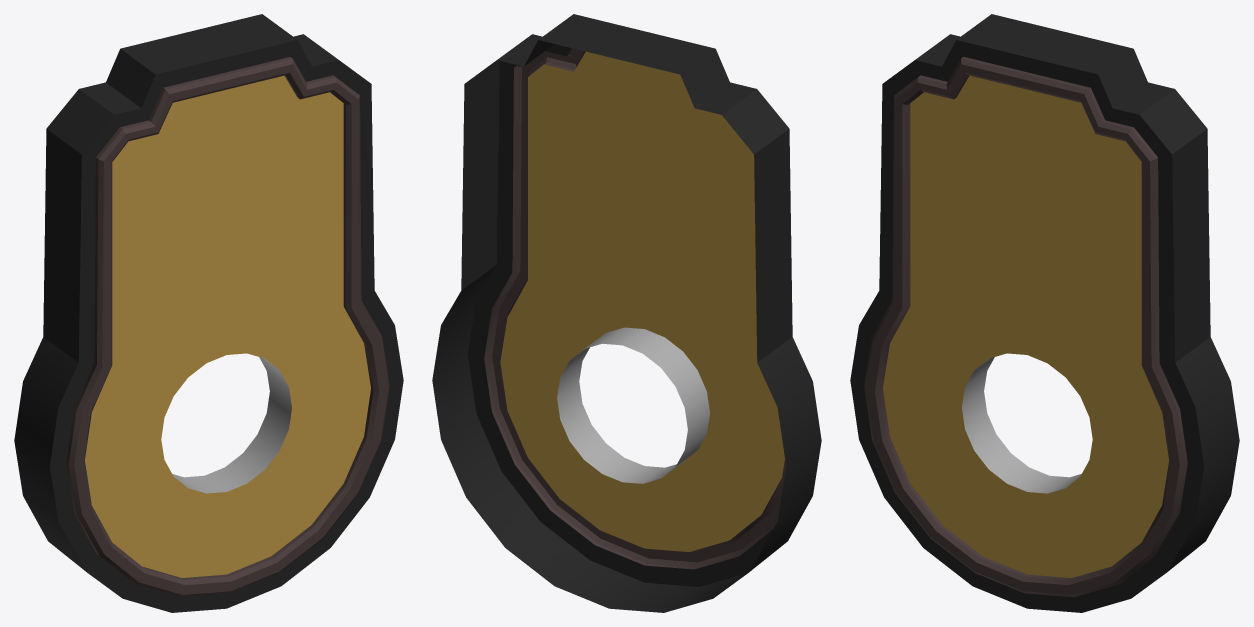
Rendered from ClockWall001.fbx.
3 renders of one model, left to right at view 1: azimuth 30°, elevation 25°; view 2: azimuth 150°, elevation 25°; view 3: azimuth 330°, elevation 25°, orthographic.
Visible parts, largest first — view 1: Clock_Wall; view 2: Clock_Wall; view 3: Clock_Wall.
Part boxes in pixels (x1,y1,x2,y2): Clock_Wall: (14, 14, 403, 612); Clock_Wall: (432, 14, 821, 612); Clock_Wall: (850, 14, 1239, 612).
Size of the model in its own units: 18.38 by 27.37 by 3.6.
